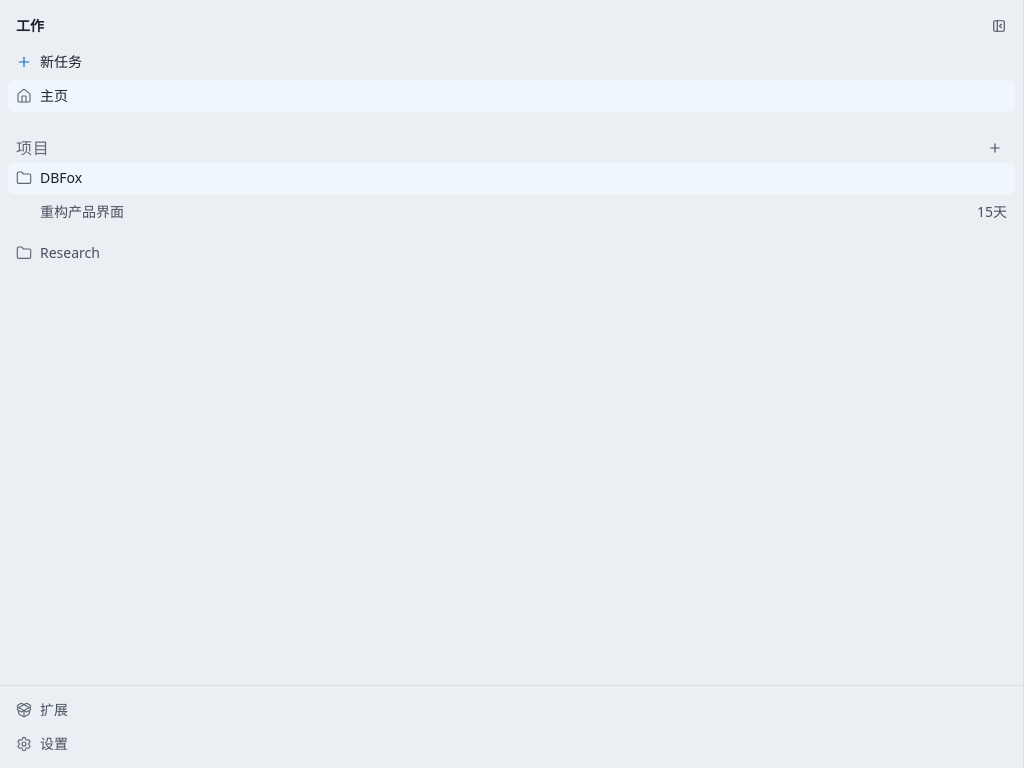
Scenario: ProjectResourceSidebar › focuses a project on row click and toggles its group without forcing a surface
The image size is (1024, 768).
Click the button "Research": {"x": 70, "y": 252} [8,237,1015,269]
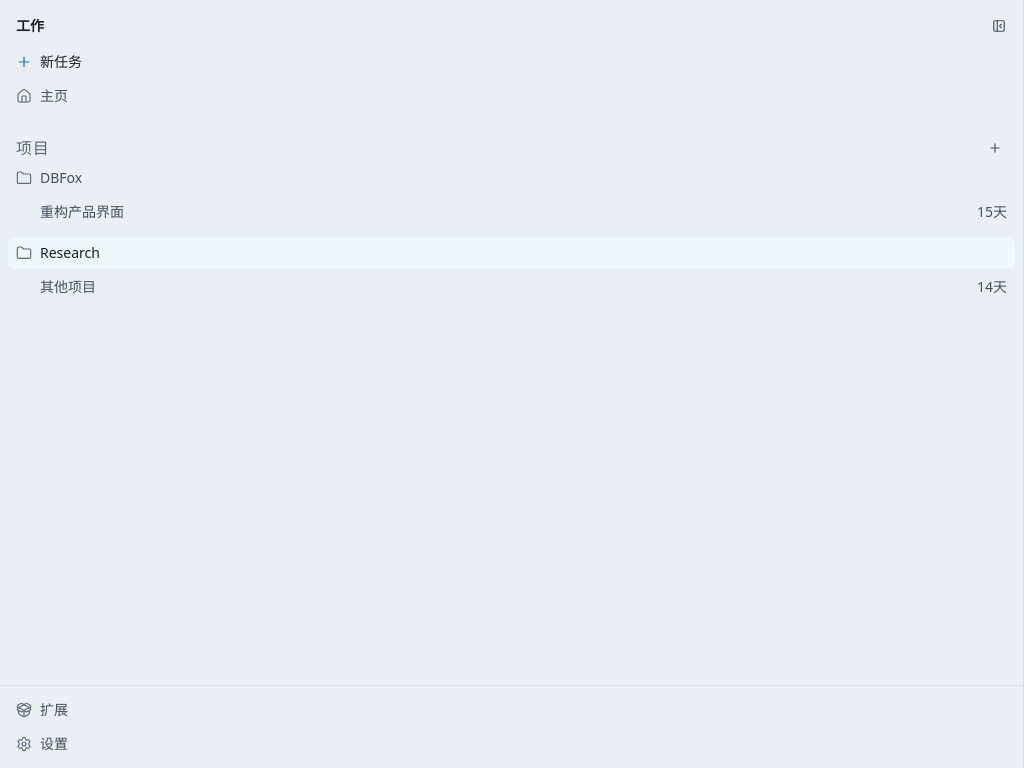
Expected: the button "其他项目 14天" is shown, [8,271,1015,303]
Note: Clicking the active project's row collapses its group.
Click the button "Research": {"x": 70, "y": 252} [8,237,1015,269]
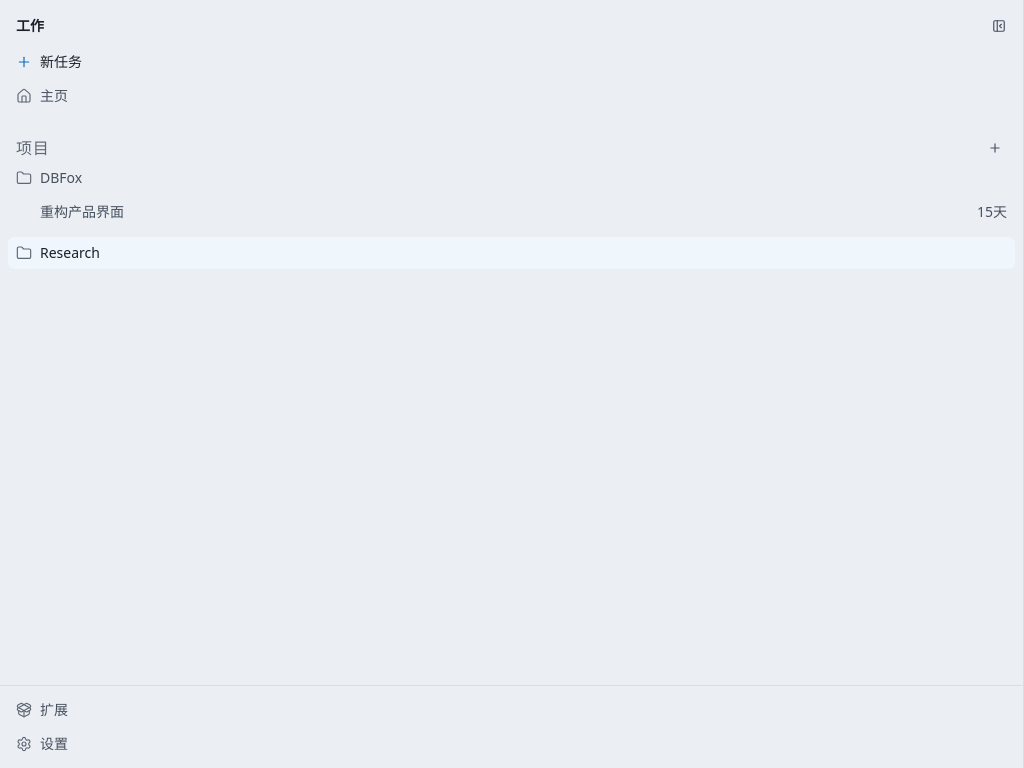
Expected: the button "其他项目" is gone
